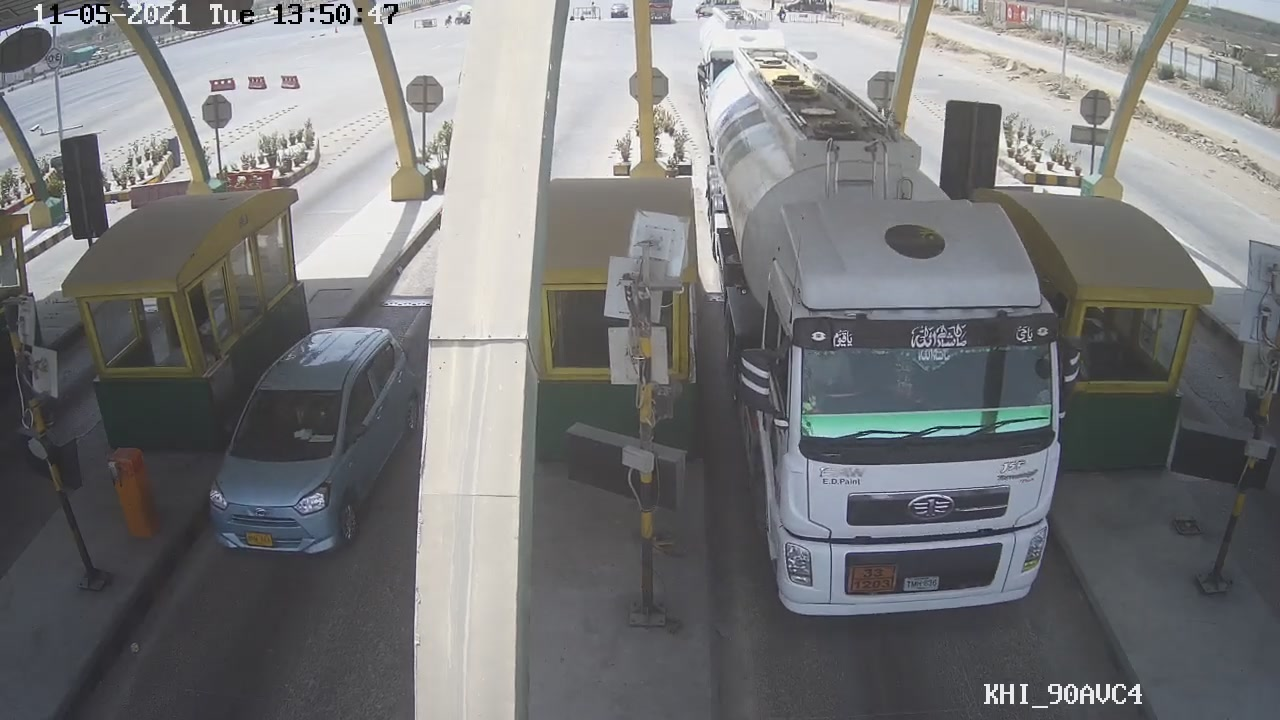F6: (706, 84, 1078, 619)
